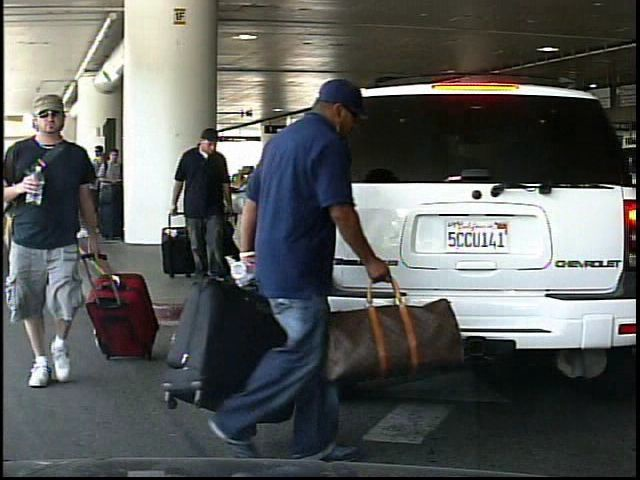person: (230, 76, 388, 468), (12, 98, 110, 396), (168, 129, 239, 282)
